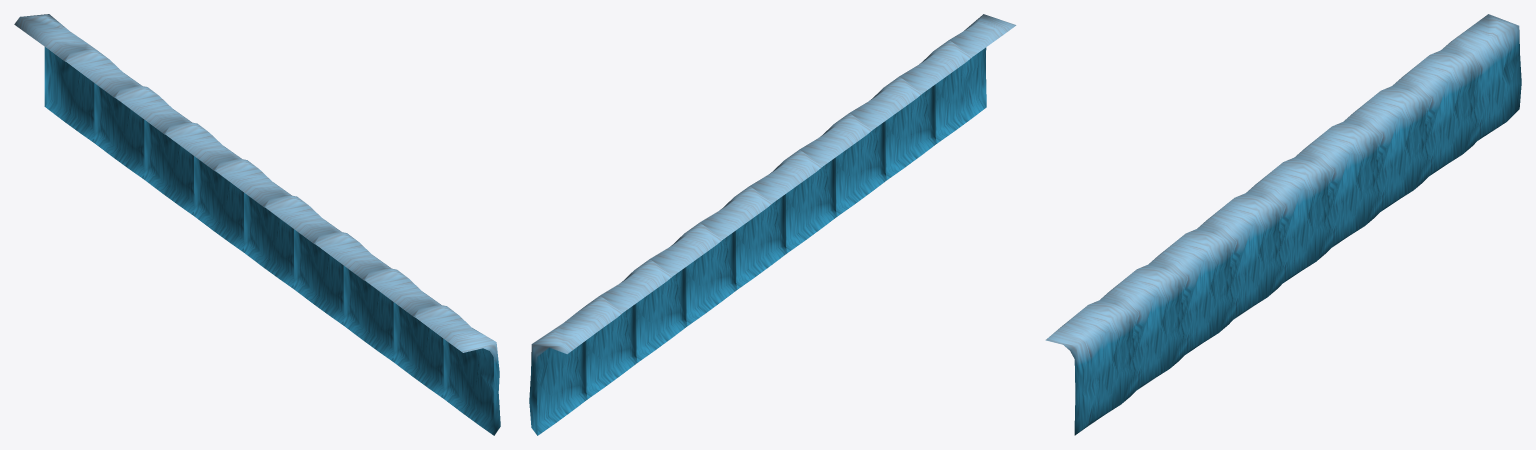
The model's file is IceWall_Small.fbx.
The picture shows the model from 3 angles, left to right: view 1: azimuth 30°, elevation 25°; view 2: azimuth 150°, elevation 25°; view 3: azimuth 330°, elevation 25°; orthographic projection. The views are drawn at different scales.
Parts seen in each view (by area): view 1: Cube.002; view 2: Cube.002; view 3: Cube.002.
Part boxes in pixels (box(x1,y1,x2,y2)): Cube.002: box(14, 14, 500, 435); Cube.002: box(529, 14, 1016, 435); Cube.002: box(1045, 14, 1521, 435).
Bounding box in the file's own units: 1874 × 4074 × 33626.
1 material, 1 textured.
